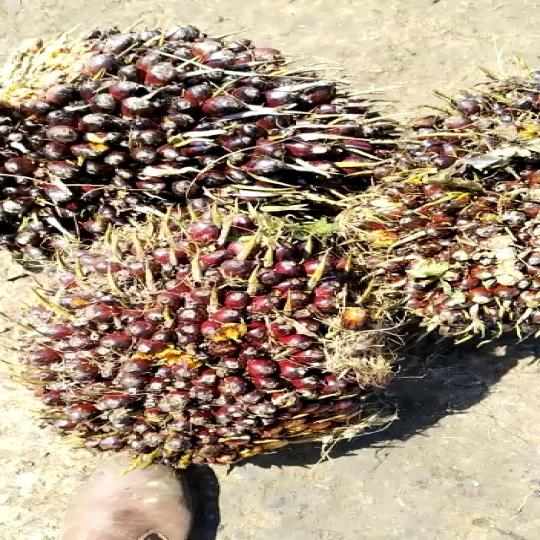kurang masak: (43, 207, 480, 476), (0, 18, 395, 272), (304, 75, 540, 329)
